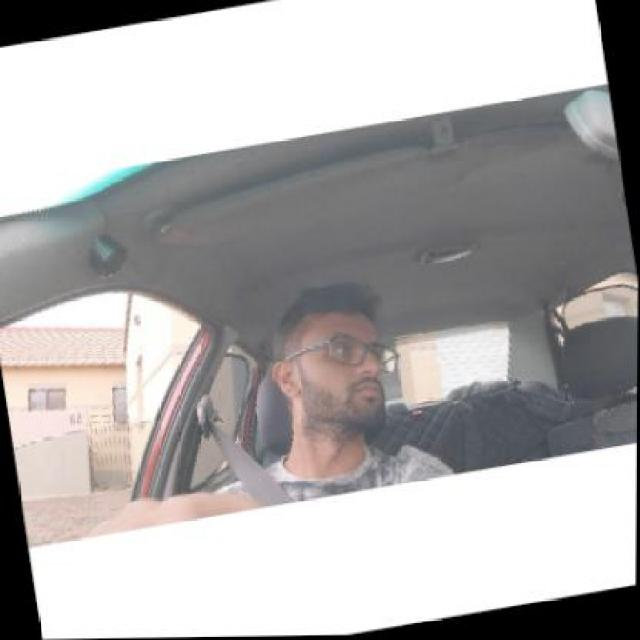person: (274, 291, 390, 429)
